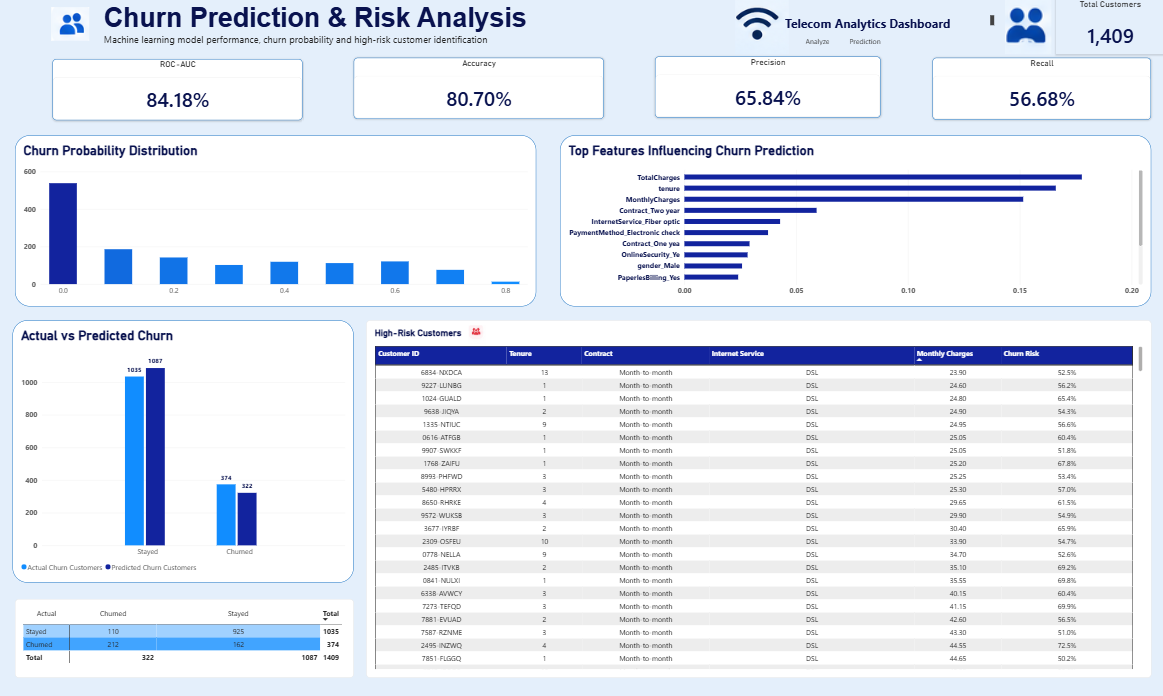

The page's visual inventory and layout, read from the dashboard file:
{"tool":"powerbi","page":{"name":"Prediction","canvas":[2330,1400],"ordinal":1},"visuals":[{"type":"cardVisual","title":"ROC-AUC","fields":{"Data":["Sum(ModelMetrices (2).Column1)"]},"box":[104,120,500,122.5],"z":0},{"type":"cardVisual","title":"Recall","fields":{"Data":["Sum(ModelMetrices (2).Column4)"]},"box":[1864,118,437,124],"z":1000},{"type":"cardVisual","title":"Accuracy","fields":{"Data":["Sum(ModelMetrices (2).Column2)"]},"box":[707,116.7,500,122.5],"z":2000},{"type":"cardVisual","title":"Precision","fields":{"Data":["Sum(ModelMetrices (2).Column3)"]},"box":[1310,116,451,122.5],"z":3000},{"type":"columnChart","title":"Churn Probability Distribution","fields":{"Category":["customer_churn_predictions.Churn_Probability (bins)"],"Y":["CountNonNull(customer_churn_predictions.customerID)"]},"box":[30,272.5,1042.5,342.5],"z":4000},{"type":"clusteredColumnChart","title":"Actual vs Predicted Churn","fields":{"Category":["ChurnStatus.Status"],"Y":["ChurnStatus.Actual Churn Customers","ChurnStatus.Predicted Churn Customers"]},"box":[25,642.5,682.5,525],"z":5000},{"type":"clusteredBarChart","title":"Top Features Influencing Churn Prediction","fields":{"Category":["FeatureImportance.Column1"],"Y":["Sum(FeatureImportance.Column2)"]},"box":[1120,272.5,1182.5,342.5],"z":6000},{"type":"textbox","box":[208,8,864,120],"z":7000},{"type":"tableEx","title":"High-Risk Customers","fields":{"Values":["customer_churn_predictions.customerID","customer_churn_predictions.tenure","customer_churn_predictions.Contract","customer_churn_predictions.InternetService","customer_churn_predictions.MonthlyCharges","customer_churn_predictions.Churn_Probability"]},"box":[732.5,642.5,1570,715],"z":8000},{"type":"image","box":[905,651.4,96.4,38.6],"z":9000},{"type":"image","box":[103,6,76,90],"z":10000},{"type":"image","box":[1416,0,218,110],"z":11000},{"type":"image","box":[1946.7,0,218,110],"z":12000},{"type":"cardVisual","title":"Total Customers","fields":{"Data":["ChurnStatus.Total Customers Exact"]},"box":[2111.2,0,217,110],"z":13000},{"type":"textbox","box":[1570,33.1,418.3,35],"z":14000},{"type":"actionButton","title":"Analyze","box":[1584,68,100,28],"z":15000},{"type":"actionButton","title":"Analyze","box":[1679,68,100,28],"z":16000},{"type":"pivotTable","fields":{"Columns":["ConfusionMatrix.Predicted"],"Rows":["ConfusionMatrix.Actual"],"Values":["Sum(ConfusionMatrix.Customers)"]},"box":[30,1200,677.5,157.5],"z":17000}]}

Visuals, with their boxes in screenshot pixels (x1, y1, x2, y2), scaled from the page's 2330x1400 canvas onto the 1163x696 screenshot:
"ROC-AUC" cardVisual: BBox(52, 60, 301, 121)
"Recall" cardVisual: BBox(930, 59, 1149, 120)
"Accuracy" cardVisual: BBox(353, 58, 602, 119)
"Precision" cardVisual: BBox(654, 58, 879, 119)
"Churn Probability Distribution" columnChart: BBox(15, 135, 535, 306)
"Actual vs Predicted Churn" clusteredColumnChart: BBox(12, 319, 353, 580)
"Top Features Influencing Churn Prediction" clusteredBarChart: BBox(559, 135, 1149, 306)
textbox: BBox(104, 4, 535, 64)
"High-Risk Customers" tableEx: BBox(366, 319, 1149, 675)
image: BBox(452, 324, 500, 343)
image: BBox(51, 3, 89, 48)
image: BBox(707, 0, 816, 55)
image: BBox(972, 0, 1080, 55)
"Total Customers" cardVisual: BBox(1054, 0, 1162, 55)
textbox: BBox(784, 16, 992, 34)
"Analyze" actionButton: BBox(791, 34, 841, 48)
"Analyze" actionButton: BBox(838, 34, 888, 48)
pivotTable - ConfusionMatrix.Predicted x ConfusionMatrix.Actual: BBox(15, 597, 353, 675)
